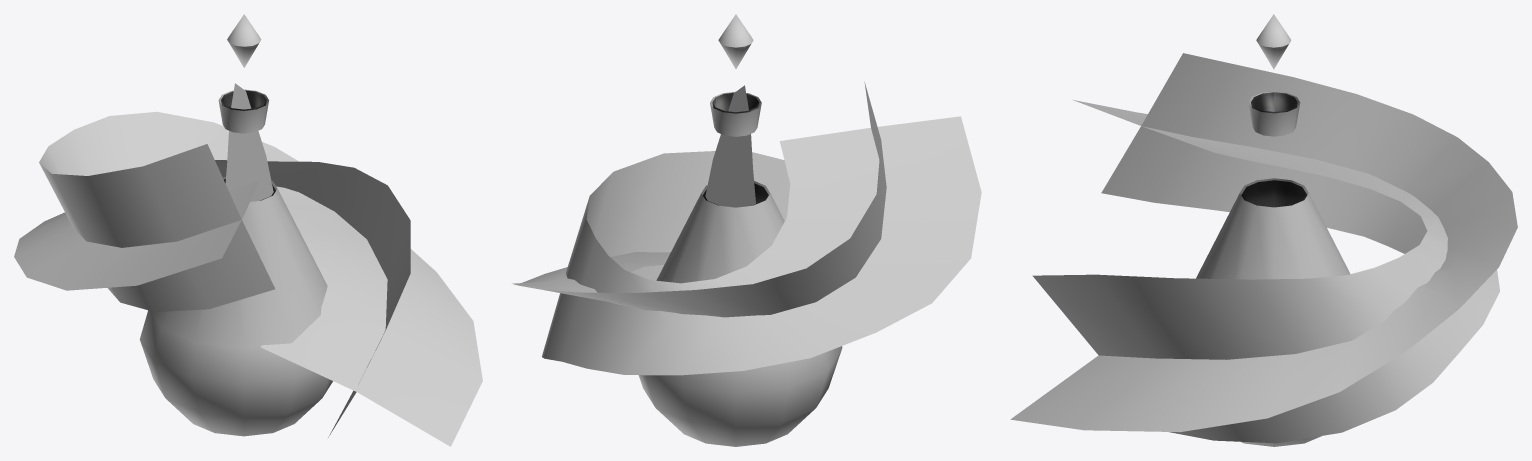
File: shengmingshuiping_effect.FBX
3 views of the same model, side by side, from view 1: azimuth 30°, elevation 25°; view 2: azimuth 150°, elevation 25°; view 3: azimuth 270°, elevation 25° (orthographic). The views are drawn at different scales.
Visible parts, largest first — view 1: effect_1; view 2: effect_1; view 3: effect_1.
Part boxes in pixels (x1,y1,x2,y2): effect_1: [14, 14, 482, 446]; effect_1: [512, 14, 981, 446]; effect_1: [1010, 14, 1517, 446].
Size of the model in its own units: 0.9063 by 0.9194 by 0.9872.
